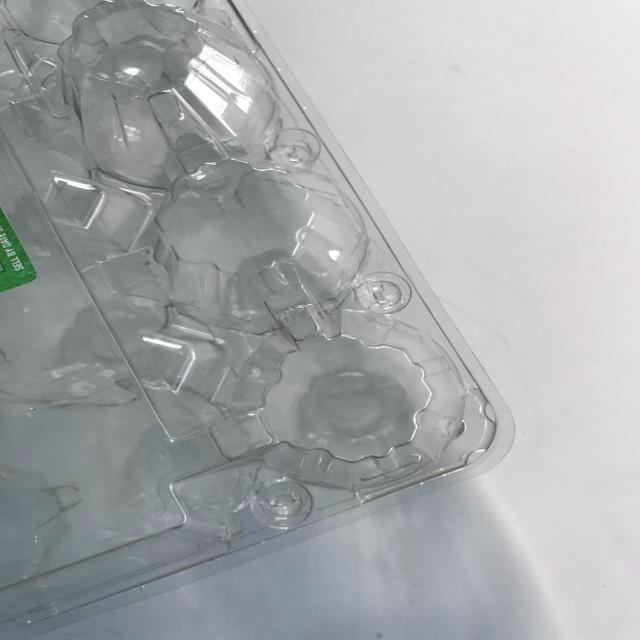plastic: (0, 0, 535, 635)
